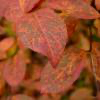Blueberry leaf: (17, 7, 65, 73), (39, 49, 89, 95), (45, 0, 100, 20)
